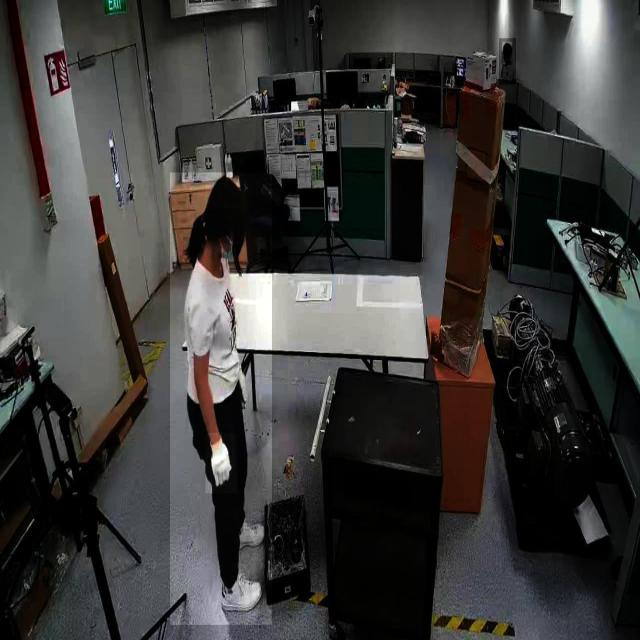face_mask: (217, 235, 241, 273), (502, 51, 512, 65)
hand_glove: (205, 433, 238, 494)
head_nohelmet: (205, 172, 247, 208), (502, 42, 512, 50)
person: (170, 172, 272, 626), (499, 38, 517, 86)
shoes: (219, 573, 263, 615), (226, 513, 268, 551)
